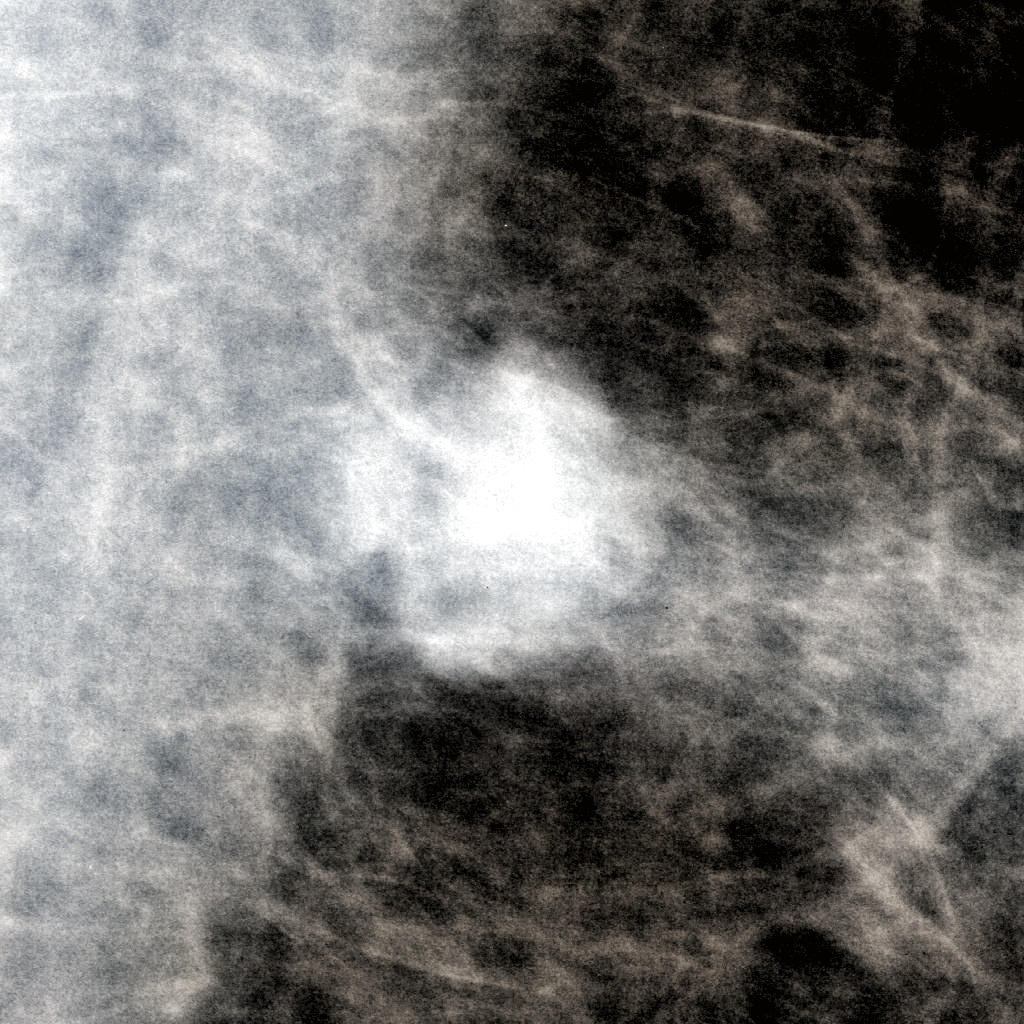tumor: (337, 327, 687, 697)
